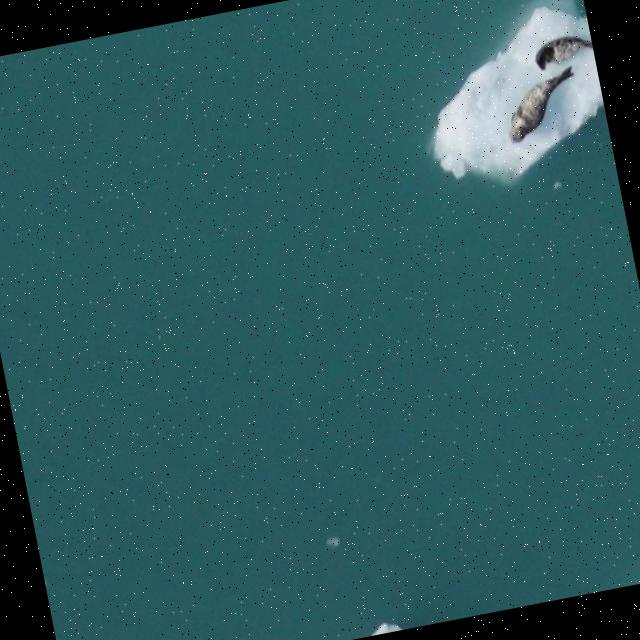seal: (500, 53, 577, 149), (532, 27, 594, 72)
